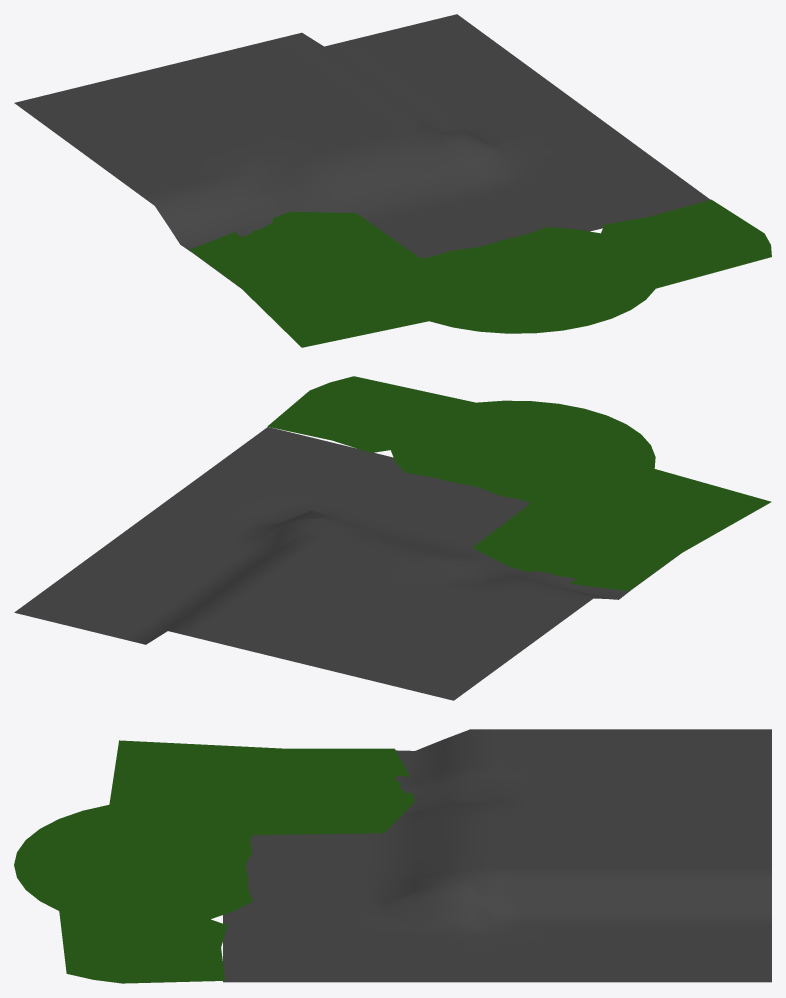
The model's file is ground.glb.
3 views of the same model, one above another, from view 1: azimuth 30°, elevation 25°; view 2: azimuth 150°, elevation 25°; view 3: azimuth 270°, elevation 25° (orthographic). The views are drawn at different scales.
Visible parts, largest first — view 1: Grid, Circle; view 2: Grid, Circle; view 3: Grid, Circle.
Part boxes in pixels (x1,y1,x2,y2): Grid: (14,14,710,288); Circle: (189,199,771,347); Grid: (14,427,681,700); Circle: (267,376,771,591); Grid: (223,729,771,982); Circle: (14,740,414,983).
Size of the model in its own units: 22.71 by 1.21 by 29.92.
